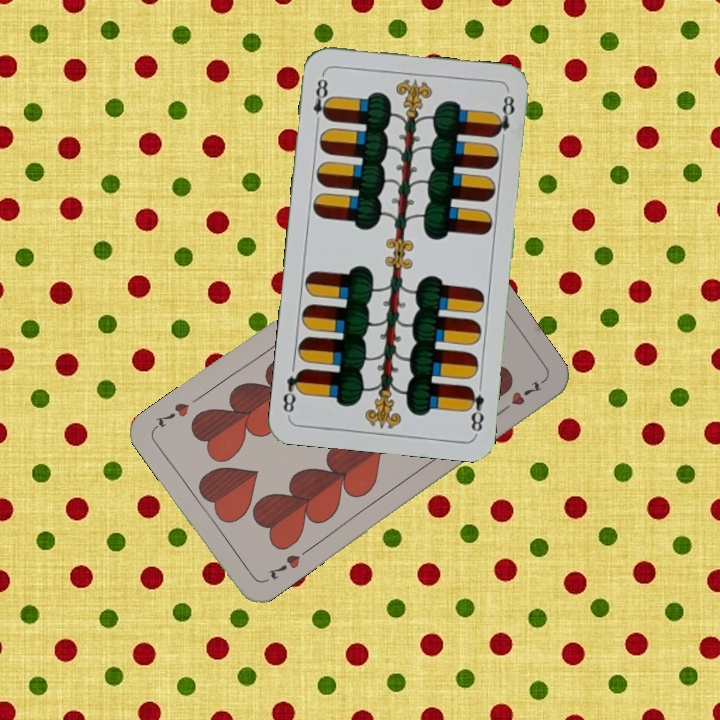E8: (309, 70, 334, 129), (462, 382, 487, 436)
H7: (264, 550, 303, 583)
